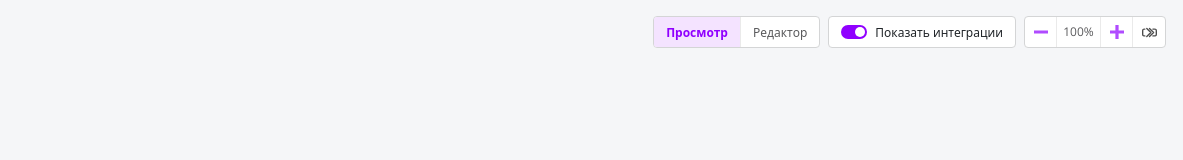
Test: Toolbar › «Отмена» возвращает исходный вид и не удаляет правки
Click the button "Редактор" at (780, 32), box top-left (741, 17), bottom-right (819, 47)
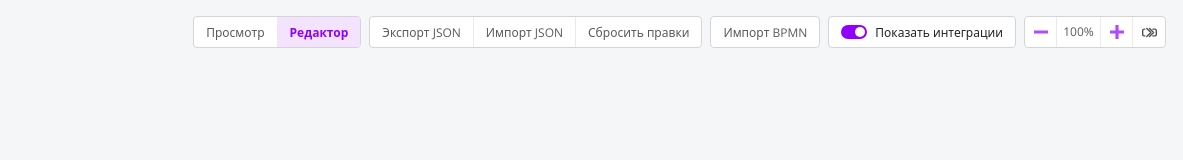
Click the button "Сбросить правки" at (639, 32), box top-left (576, 17), bottom-right (701, 47)
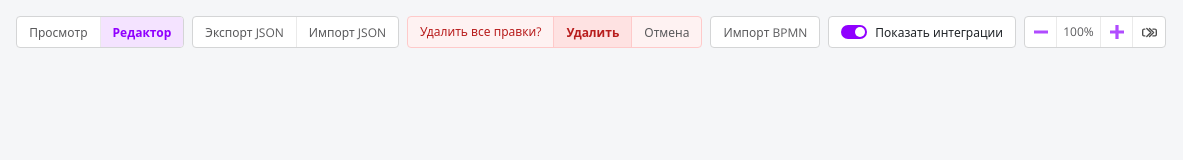
Click the button "Отмена" at (666, 32), box top-left (631, 17), bottom-right (702, 47)
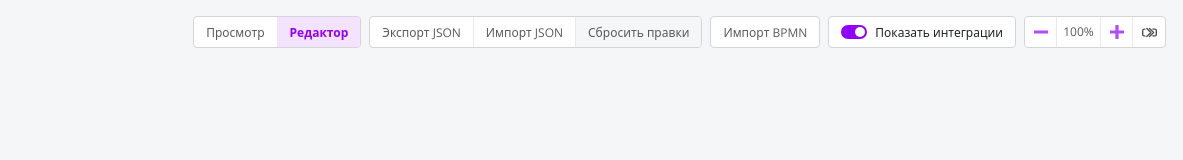
Now the text "Удалить все правки?" is gone
